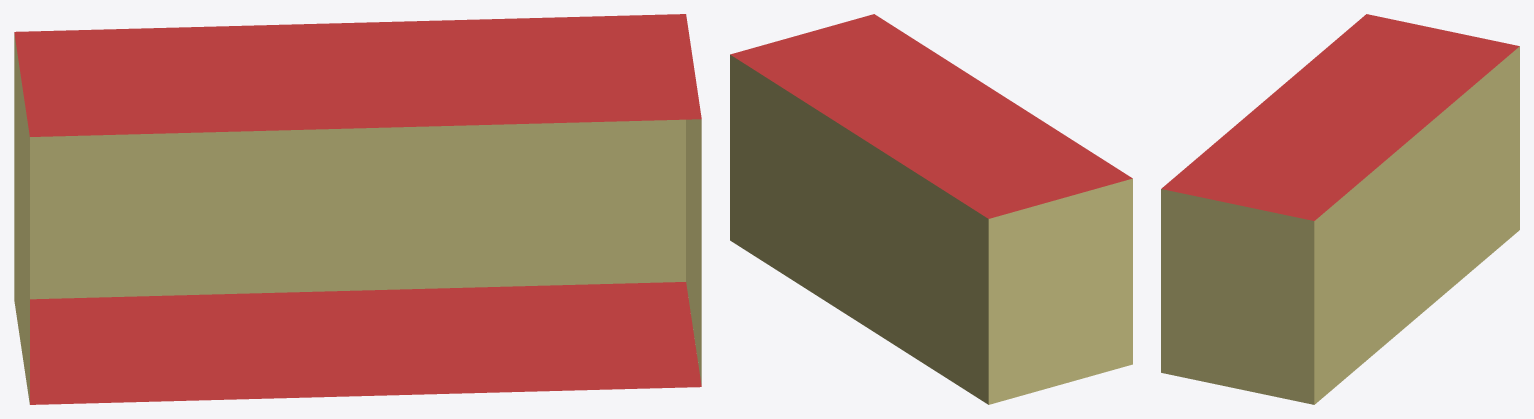
3 views of the same model, side by side, from view 1: azimuth 30°, elevation 25°; view 2: azimuth 150°, elevation 25°; view 3: azimuth 270°, elevation 25° (orthographic). The views are drawn at different scales.
Visible parts, largest first — view 1: group_4, group_3, group_5; view 2: group_4, group_3; view 3: group_4, group_3.
Part boxes in pixels (<box>): group_4: <box>14,34,701,404</box>; group_3: <box>14,14,701,136</box>; group_5: <box>30,282,701,404</box>; group_4: <box>730,54,1132,404</box>; group_3: <box>730,14,1132,218</box>; group_4: <box>1161,46,1519,404</box>; group_3: <box>1161,14,1519,220</box>.
Bounding box in the file's own units: 16.28 × 11.92 × 6.74.
